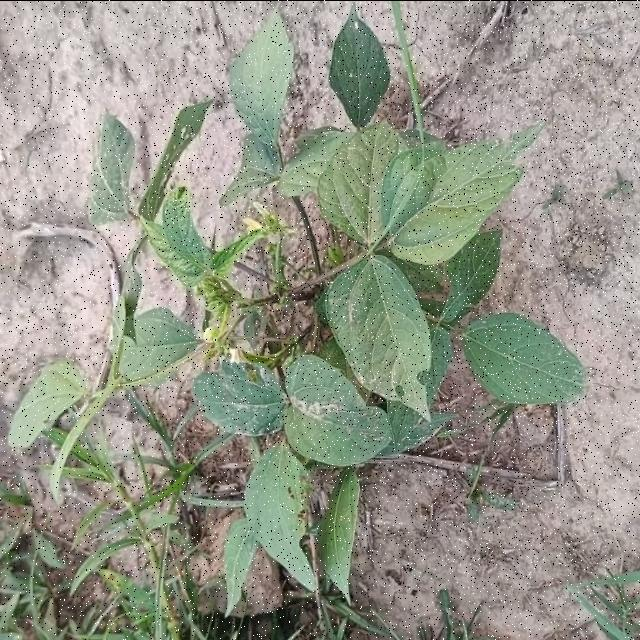plant: (9, 5, 584, 610)
